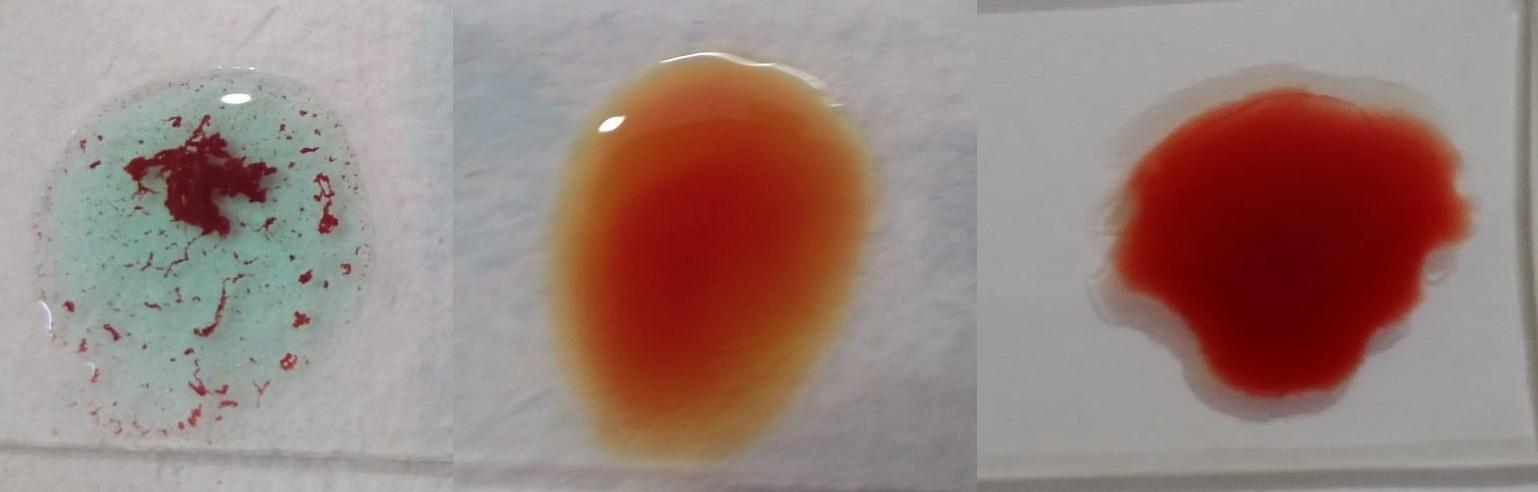A: (42, 85, 368, 438)
